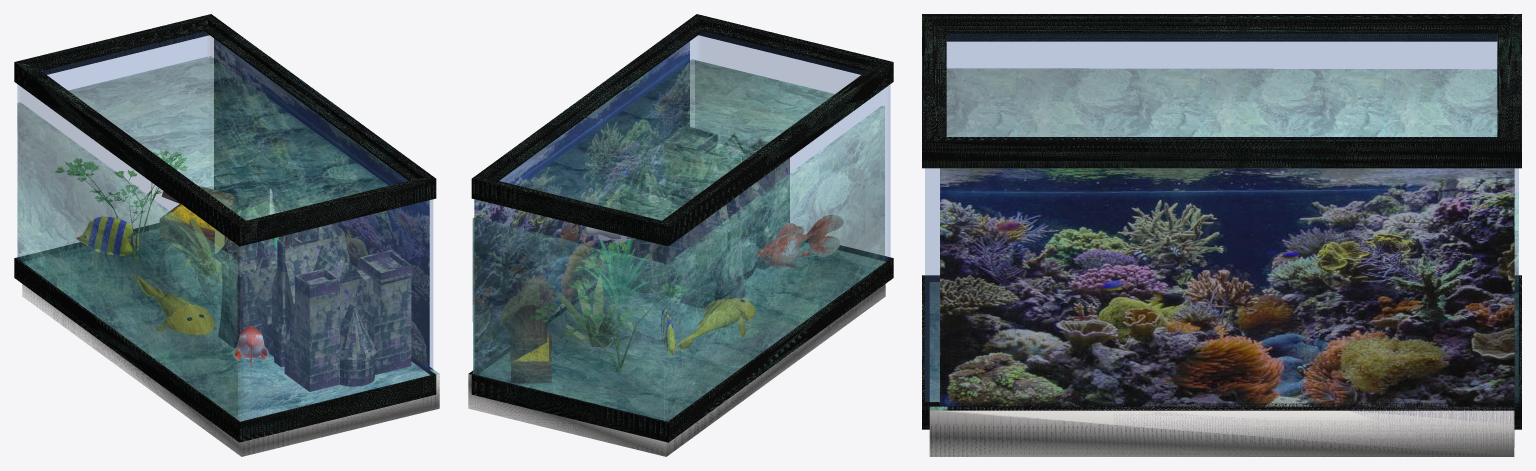
3 views of the same model, side by side, from view 1: azimuth 30°, elevation 25°; view 2: azimuth 150°, elevation 25°; view 3: azimuth 270°, elevation 25° (orthographic). The views are drawn at different scales.
Visible parts, largest first — view 1: SketchUp (×3), Glass_Side (×2), Rim (×6), ske80 (×3), image_0, Glass_Front_Back (×2), ske75 (×3), Component_11, group_2; view 2: SketchUp (×3), Glass_Side (×2), Rim (×5), image_0, ske80 (×3), Glass_Front_Back (×2), ske75 (×2), group_3, group_2, Component_8, Component_11; view 3: image_0, SketchUp (×4), Rim (×6), Glass_Front_Back (×2).
Part boxes in pixels (<box>): SketchUp (×3): <box>17,56,439,456</box>; Glass_Side (×2): <box>42,32,429,420</box>; Rim (×6): <box>14,14,436,442</box>; ske80 (×3): <box>212,198,412,391</box>; image_0: <box>214,38,429,369</box>; Glass_Front_Back (×2): <box>17,35,432,421</box>; ske75 (×3): <box>160,186,237,252</box>; Component_11: <box>162,305,214,334</box>; group_2: <box>237,325,264,358</box>; SketchUp (×3): <box>468,59,885,456</box>; Glass_Side (×2): <box>478,32,886,419</box>; Rim (×5): <box>471,14,893,442</box>; image_0: <box>474,41,689,372</box>; ske80 (×3): <box>619,126,789,308</box>; Glass_Front_Back (×2): <box>475,35,890,420</box>; ske75 (×2): <box>510,305,551,382</box>; group_3: <box>807,215,843,256</box>; group_2: <box>758,234,807,268</box>; Component_8: <box>701,300,740,329</box>; Component_11: <box>703,298,755,322</box>; image_0: <box>940,168,1514,447</box>; SketchUp (×4): <box>929,68,1518,456</box>; Rim (×6): <box>922,14,1521,429</box>; Glass_Front_Back (×2): <box>925,33,1518,401</box>.
Bounding box in the file's own units: 30.12 × 57.84 × 33.08.
